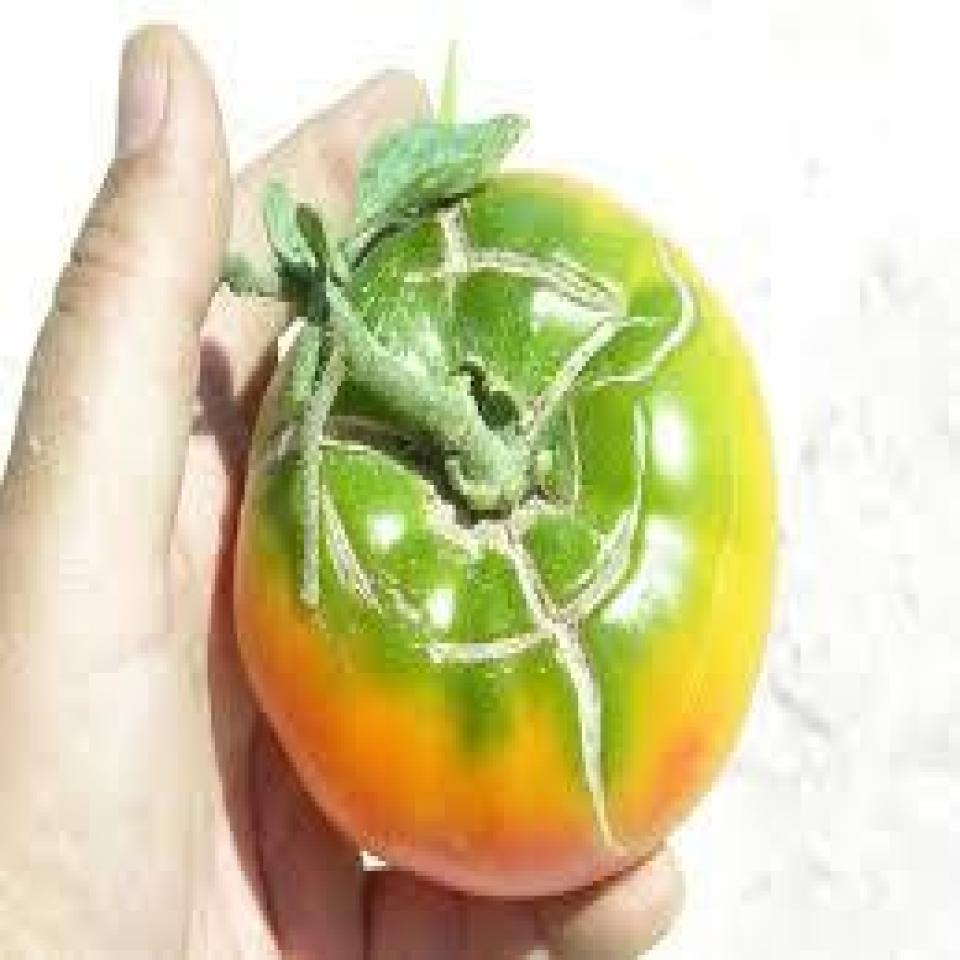Cracking: (244, 412, 678, 675), (346, 188, 710, 418), (478, 493, 657, 852)
